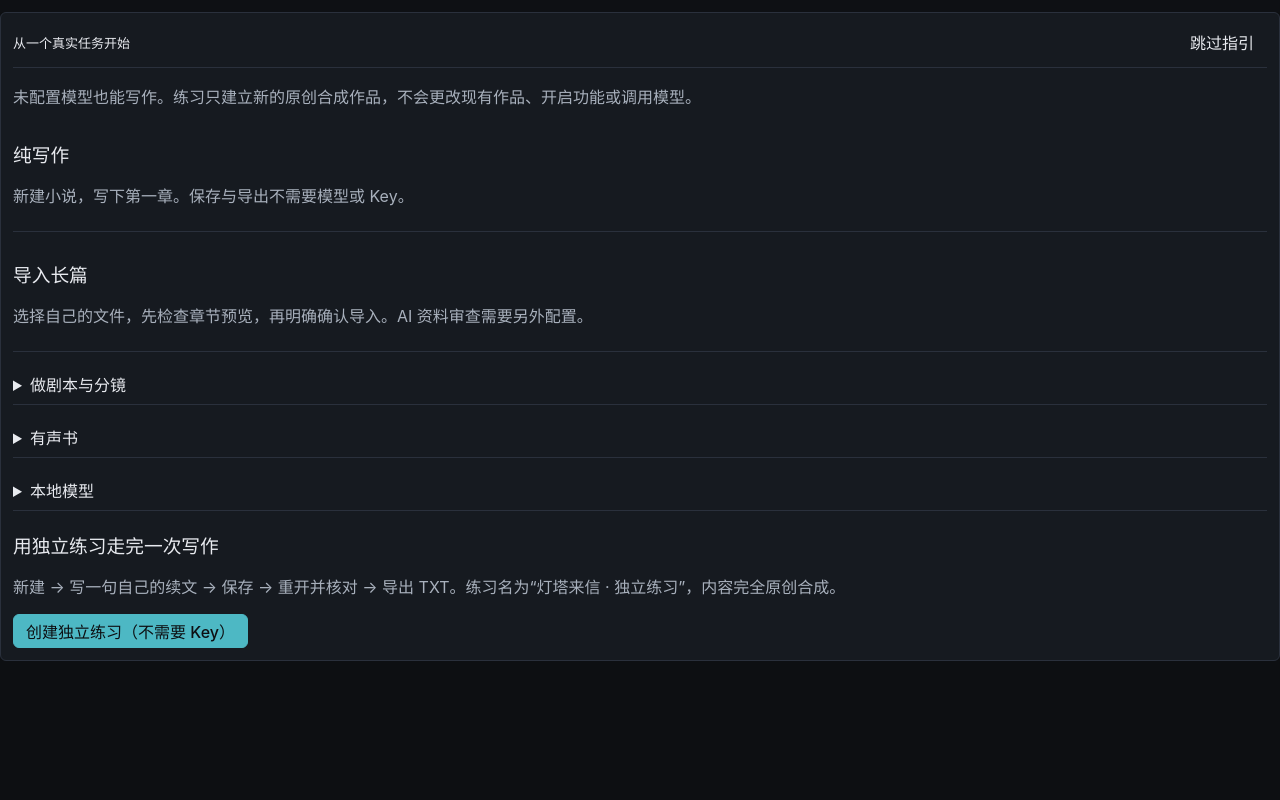
FirstUsePanel › retains unknown create and never exposes blind retry
Click the button "创建独立练习（不需要 Key）": click(130, 631) [13,614,248,648]
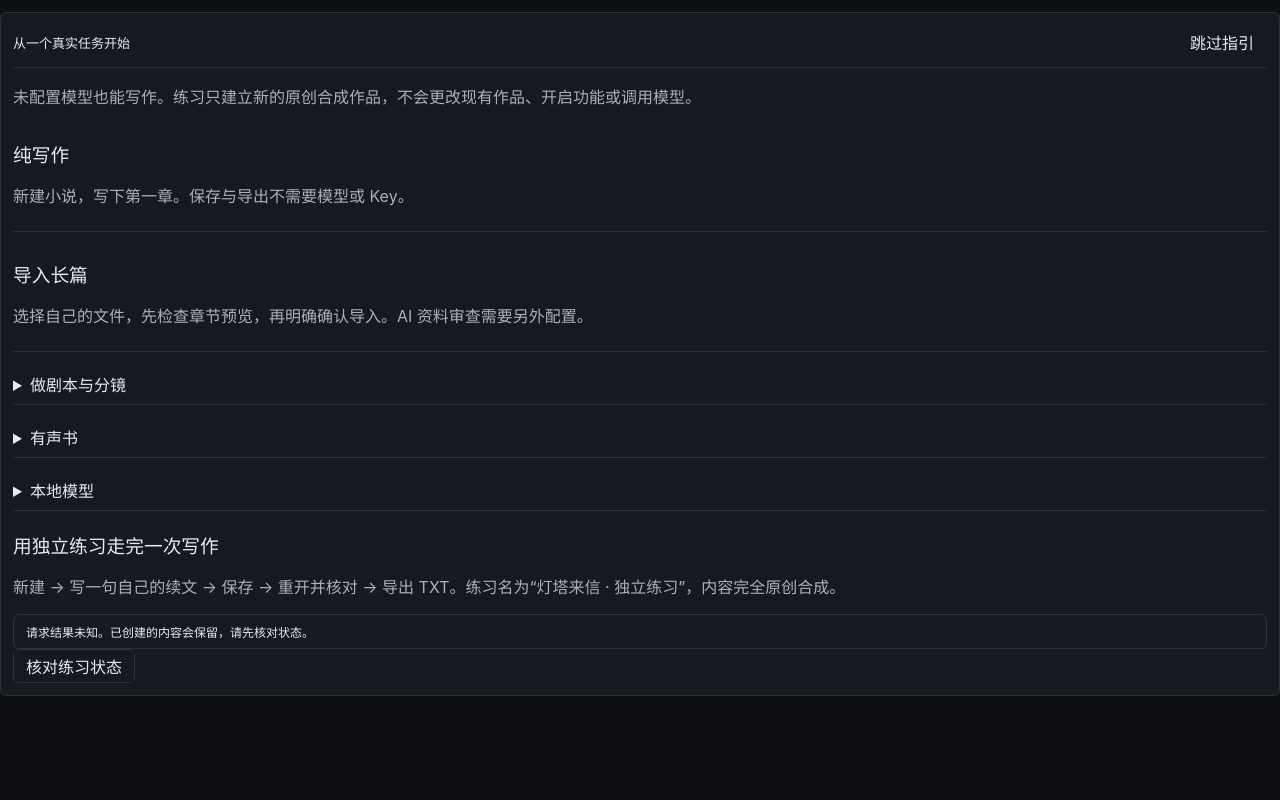
Expected: the text "请求结果未知。已创建的内容会保留，请先核对状态。" is shown, [13,614,1267,649]
Expected: the button "创建独立练习（不需要 Key）" is gone
Click the button "核对练习状态": click(74, 666) [13,649,135,683]
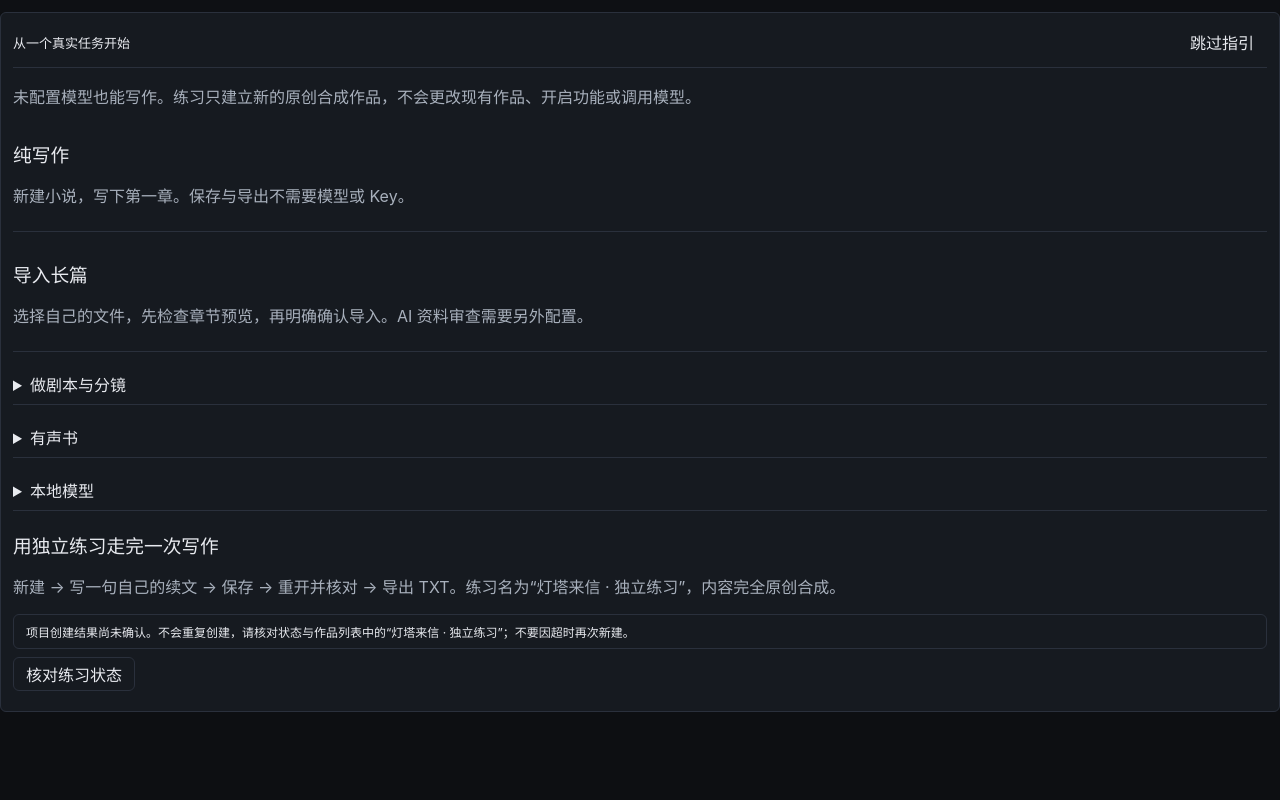
Expected: the text "项目创建结果尚未确认。不会重复创建，请核对状态与作品列表中的“灯塔来信 · 独立练习”；不要因超时再次新建。" is shown, [13,614,1267,649]
